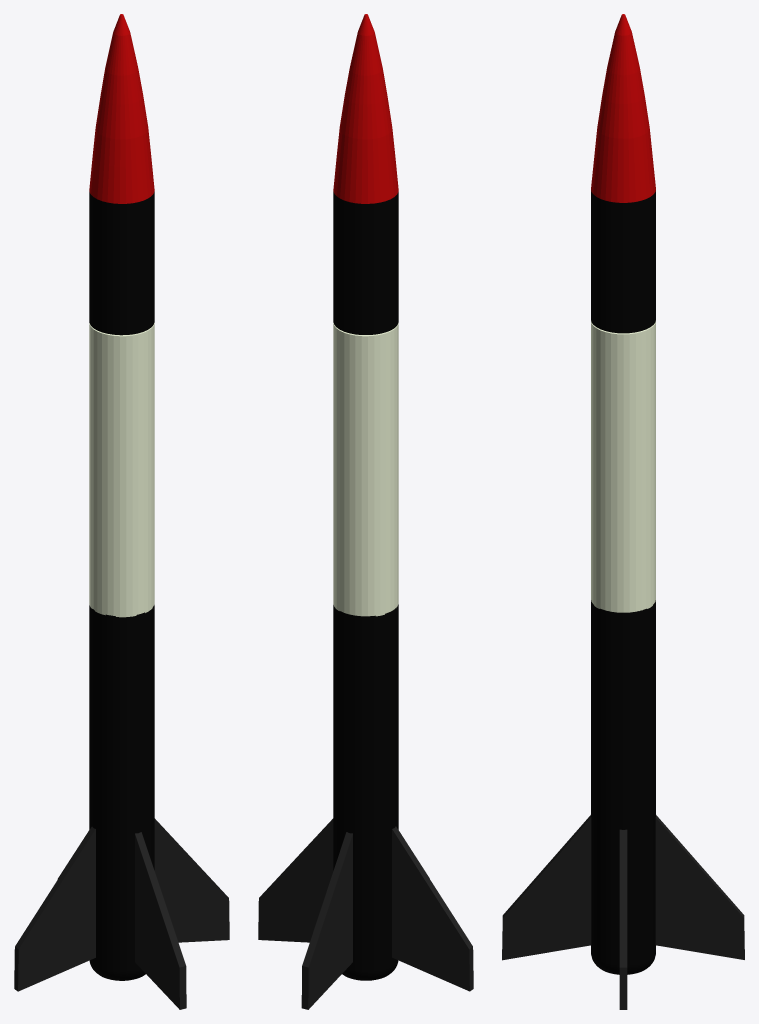
Rendered from SORS.obj.
3 renders of one model, left to right at view 1: azimuth 30°, elevation 25°; view 2: azimuth 150°, elevation 25°; view 3: azimuth 270°, elevation 25°, orthographic.
Visible parts, largest first — view 1: 003_Motor, 000_LoxTank, 004_Kanatçık1, 001_Helyum, 002_Burun, 005_Kanatçık2; view 2: 003_Motor, 000_LoxTank, 004_Kanatçık1, 001_Helyum, 002_Burun, 005_Kanatçık2; view 3: 003_Motor, 000_LoxTank, 005_Kanatçık2, 001_Helyum, 002_Burun, 004_Kanatçık1.
Boxes of the visible parts, x1,y1,x2,y2 form: 003_Motor: (89,605,154,980); 000_LoxTank: (89,323,154,617); 004_Kanatçık1: (14,818,229,991); 001_Helyum: (89,191,154,335); 002_Burun: (89,14,154,203); 005_Kanatçık2: (57,831,186,1009); 003_Motor: (333,604,398,980); 000_LoxTank: (333,323,398,616); 004_Kanatçık1: (258,818,473,991); 001_Helyum: (333,191,398,334); 002_Burun: (333,14,398,203); 005_Kanatçık2: (301,832,429,1009); 003_Motor: (591,600,655,974); 000_LoxTank: (591,321,655,612); 005_Kanatçık2: (502,815,744,960); 001_Helyum: (591,190,655,333); 002_Burun: (591,14,655,202); 004_Kanatçık1: (619,829,627,1009).
Bounding box in the file's own units: 1.27 × 5.48 × 1.27.
